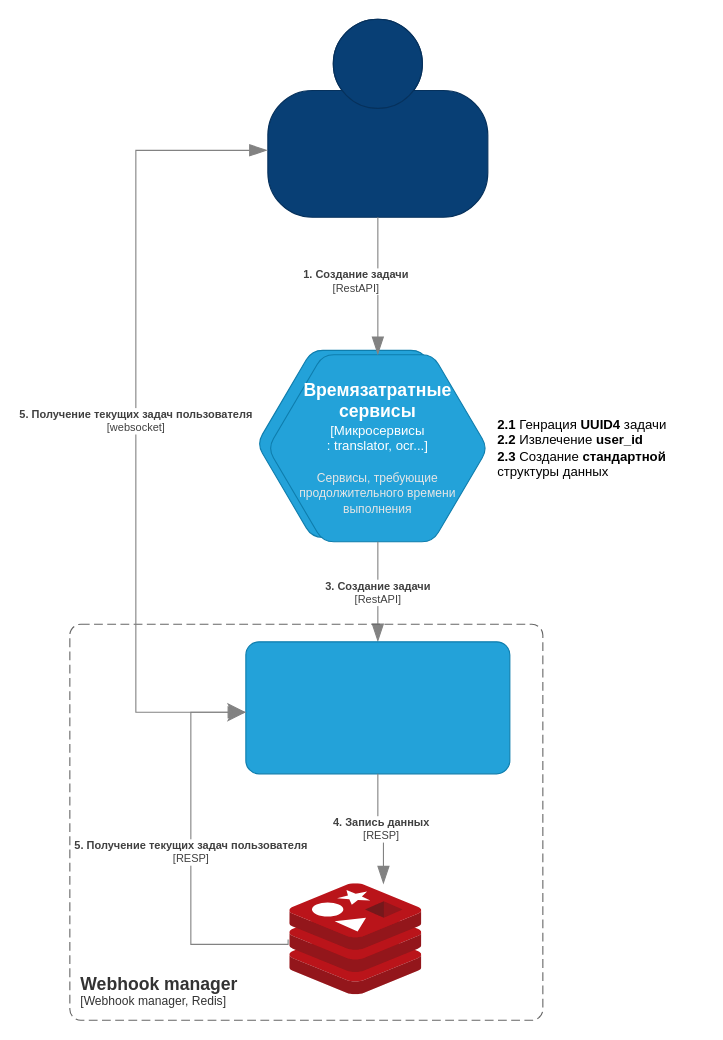
Image size: 723x1040. Some labels were removed from this diagram. Here are the shapes that lost their labels. From the top down, the box of each, then its label:
(267, 18, 488, 217): Клиент [client] Клиентская часть системы
(245, 641, 510, 774): Webhook manager Service [Container: Rust, Axum]
